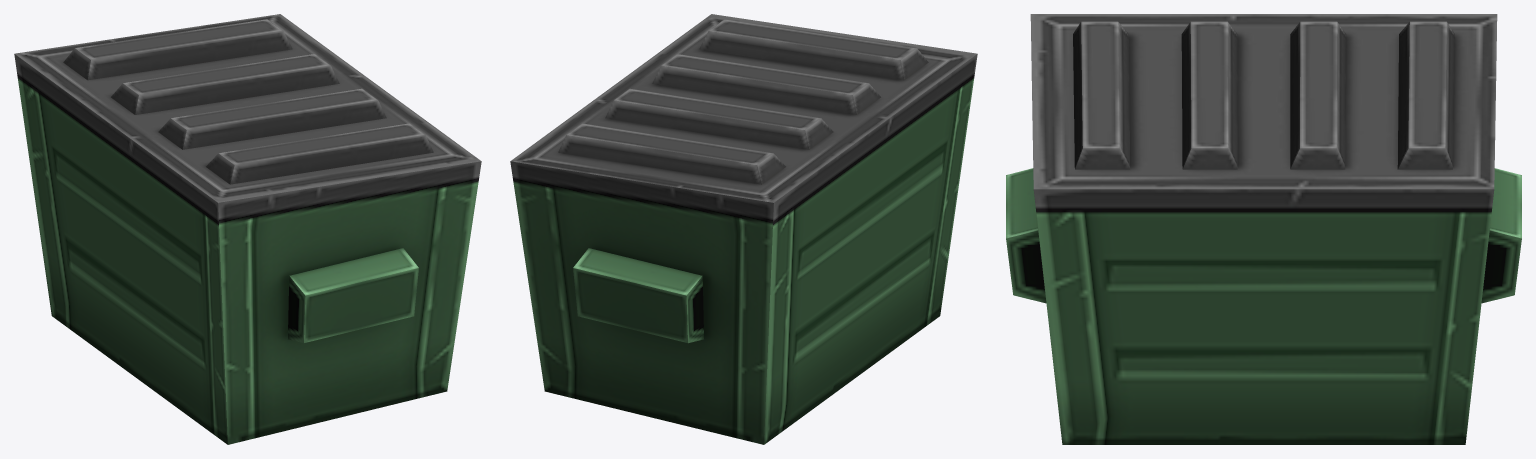
Rendered from Item_TrashBox.FBX.
3 views of the same model, side by side, from view 1: azimuth 30°, elevation 25°; view 2: azimuth 150°, elevation 25°; view 3: azimuth 270°, elevation 25° (orthographic). The views are drawn at different scales.
Visible parts, largest first — view 1: Item_TrashBox; view 2: Item_TrashBox; view 3: Item_TrashBox.
Part boxes in pixels (x1,y1,x2,y2): Item_TrashBox: (14, 14, 481, 444); Item_TrashBox: (510, 14, 977, 444); Item_TrashBox: (1006, 14, 1521, 444).
Size of the model in its own units: 119 by 116 by 176.
